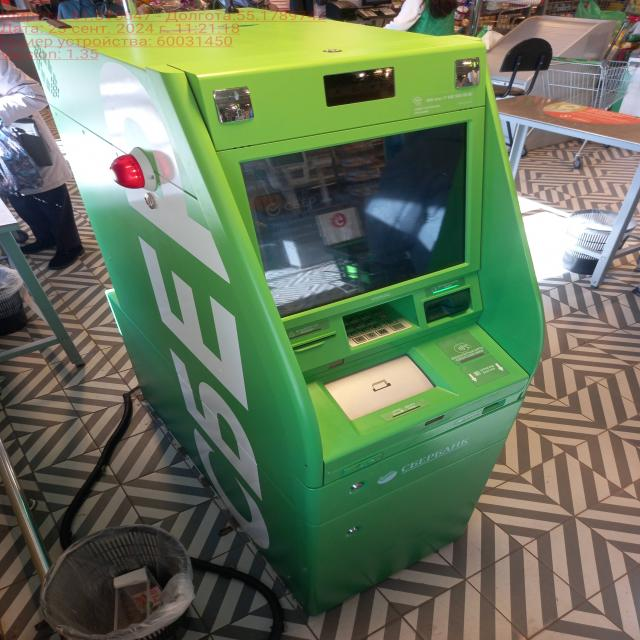bank: (19, 11, 558, 612)
